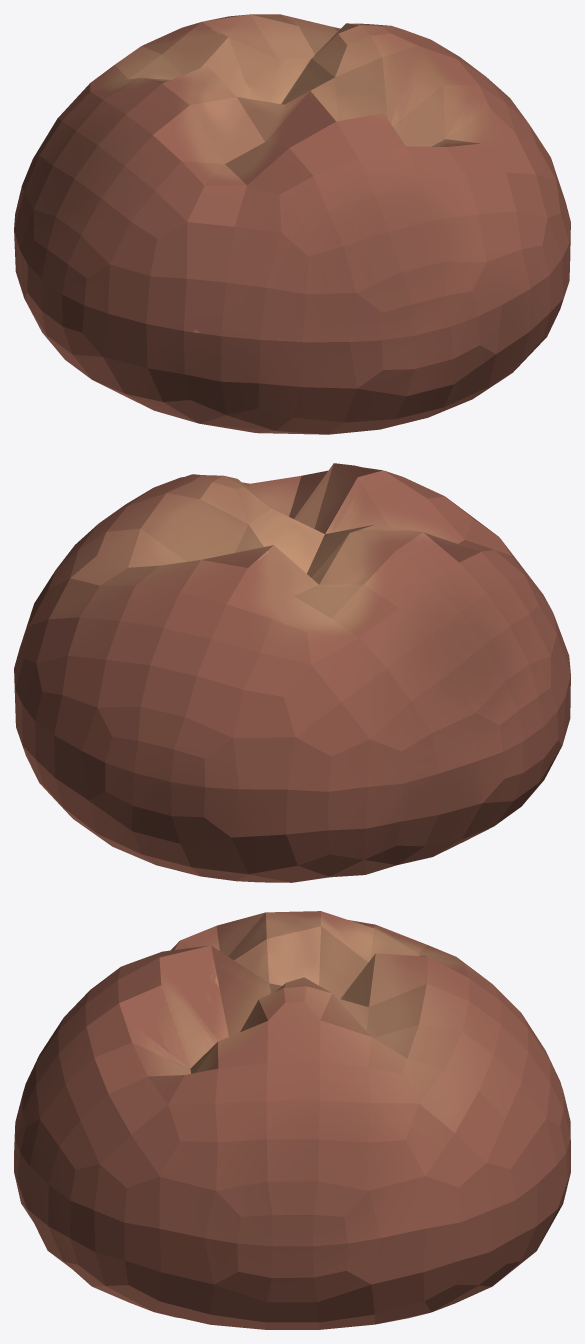
File: Bread_Pretzel.glb
3 renders of one model, top to bottom at view 1: azimuth 30°, elevation 25°; view 2: azimuth 150°, elevation 25°; view 3: azimuth 270°, elevation 25°, orthographic.
Parts seen in each view (by area): view 1: bread_pretzel.001; view 2: bread_pretzel.001; view 3: bread_pretzel.001.
Boxes of the visible parts, left/top/right/bottom form: bread_pretzel.001: left=14, top=14, right=570, bottom=434; bread_pretzel.001: left=14, top=463, right=570, bottom=882; bread_pretzel.001: left=14, top=911, right=570, bottom=1329.
Bounding box in the file's own units: 0.2677 × 0.167 × 0.2694.
1 material, 1 textured.
